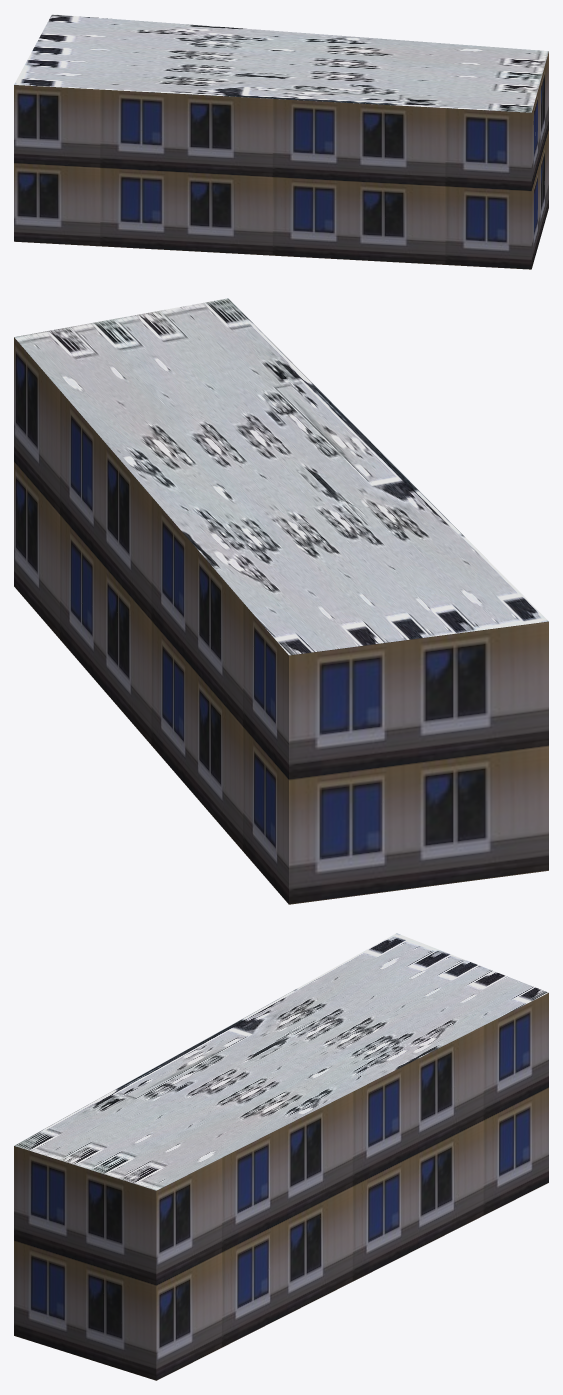
File: ResTex__4905.fbx
3 renders of one model, top to bottom at view 1: azimuth 30°, elevation 25°; view 2: azimuth 150°, elevation 25°; view 3: azimuth 270°, elevation 25°, orthographic. The views are drawn at different scales.
Parts seen in each view (by area): view 1: CityEngineMaterial_5_m, CityEngineMaterial_8_m; view 2: CityEngineMaterial_5_m, CityEngineMaterial_8_m; view 3: CityEngineMaterial_5_m, CityEngineMaterial_8_m.
Boxes of the visible parts, bbox=[...] form: CityEngineMaterial_5_m: bbox=[14, 52, 548, 269]; CityEngineMaterial_8_m: bbox=[14, 14, 548, 112]; CityEngineMaterial_5_m: bbox=[14, 337, 548, 904]; CityEngineMaterial_8_m: bbox=[14, 298, 548, 655]; CityEngineMaterial_5_m: bbox=[14, 993, 548, 1380]; CityEngineMaterial_8_m: bbox=[14, 933, 548, 1190].
Size of the model in its own units: 17.45 by 6 by 15.31.
2 materials, 2 textured.
